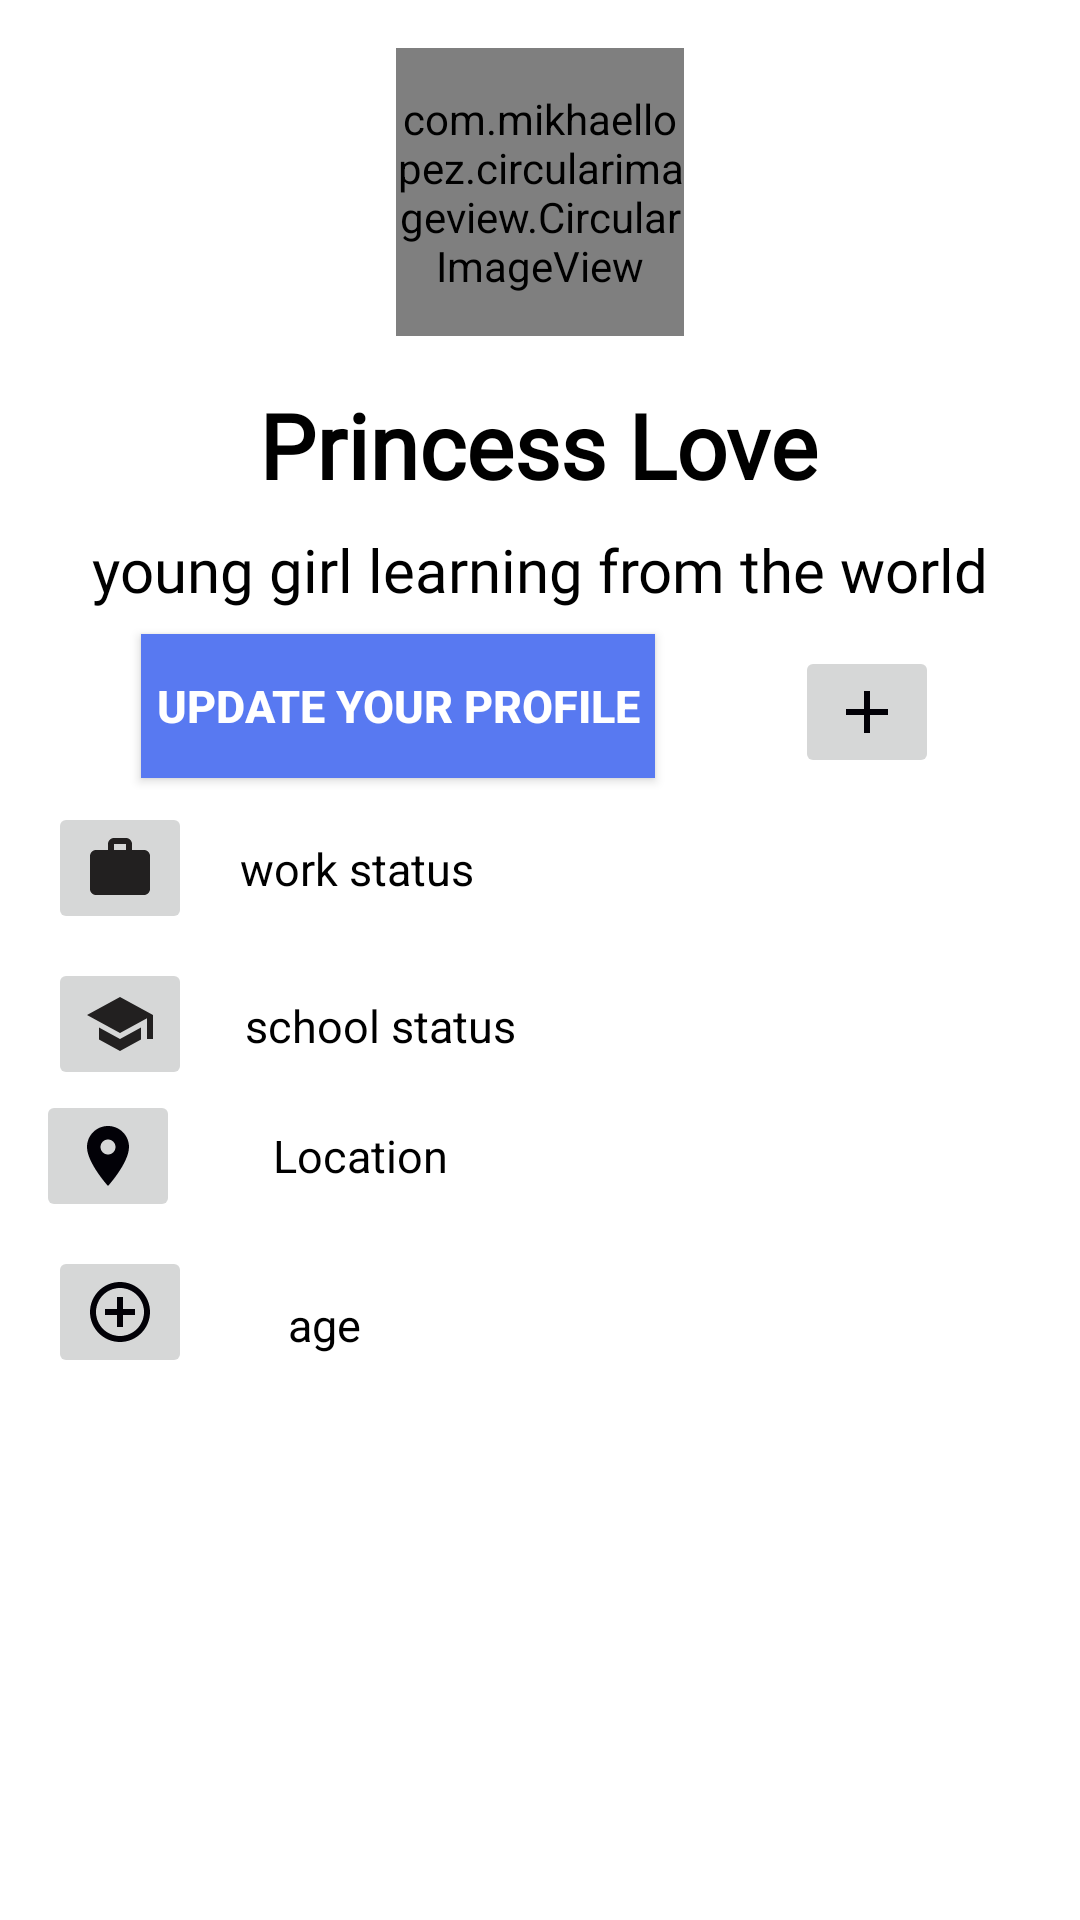

Icon click points for this 1080*1920 phone screenshot, format point (x, y):
add: point (867, 712)
